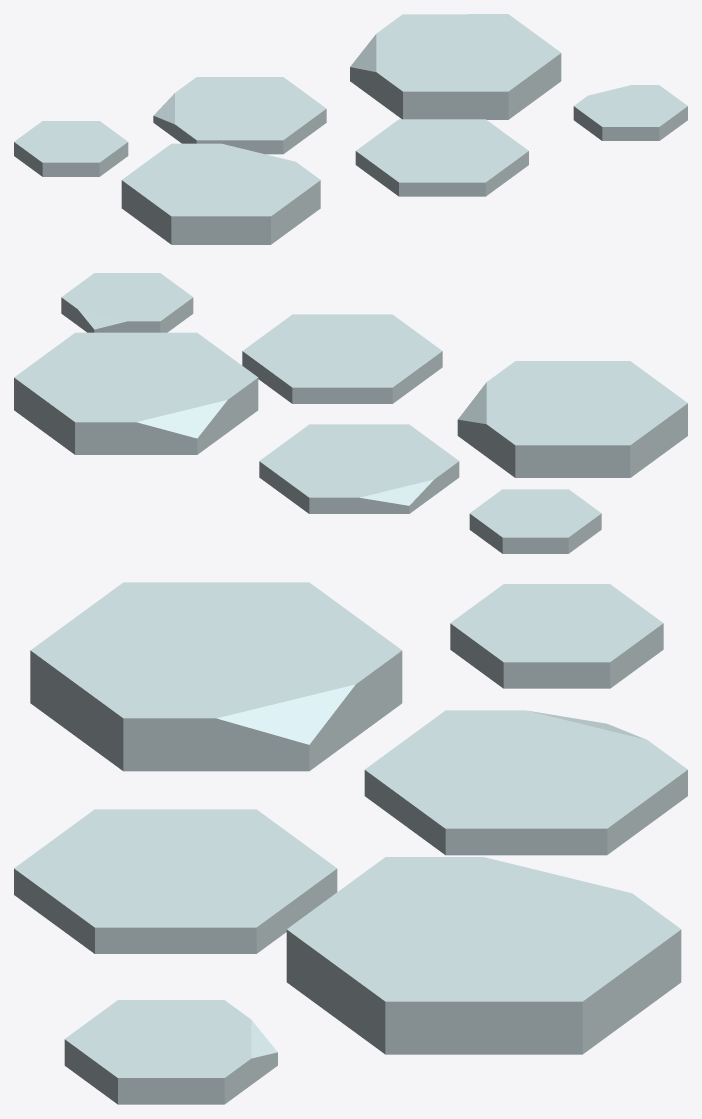
Rendered from path_stone.glb.
3 renders of one model, top to bottom at view 1: azimuth 30°, elevation 25°; view 2: azimuth 150°, elevation 25°; view 3: azimuth 270°, elevation 25°, orthographic. The views are drawn at different scales.
Visible parts, largest first — view 1: path_stone; view 2: path_stone; view 3: path_stone.
Part boxes in pixels (x1,y1,x2,y2): path_stone: (14,14,687,244); path_stone: (14,273,687,553); path_stone: (14,582,687,1104).
Bounding box in the file's own units: 1 × 0.05 × 0.5766.
